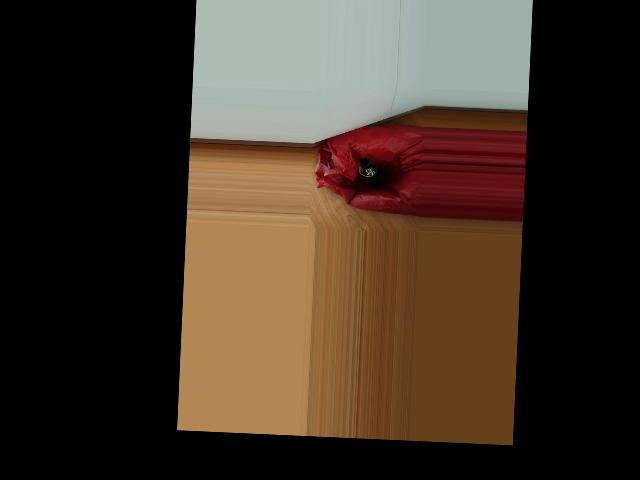beer: (357, 158, 382, 188)
